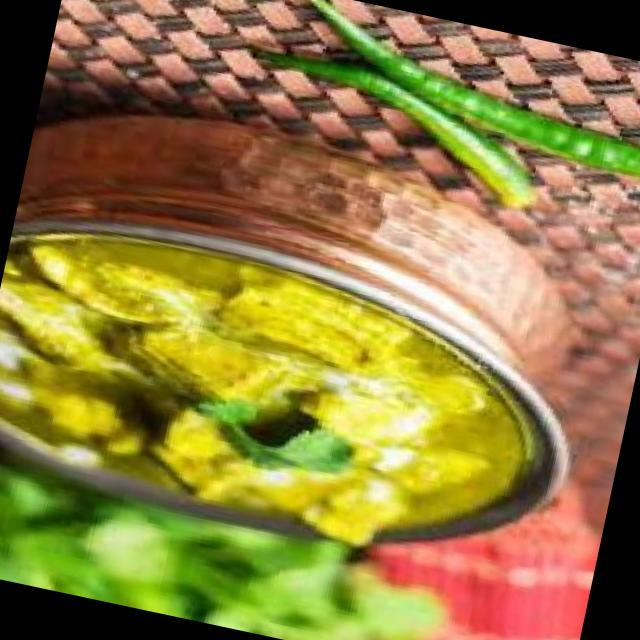palak_paneer: (0, 211, 547, 572)
